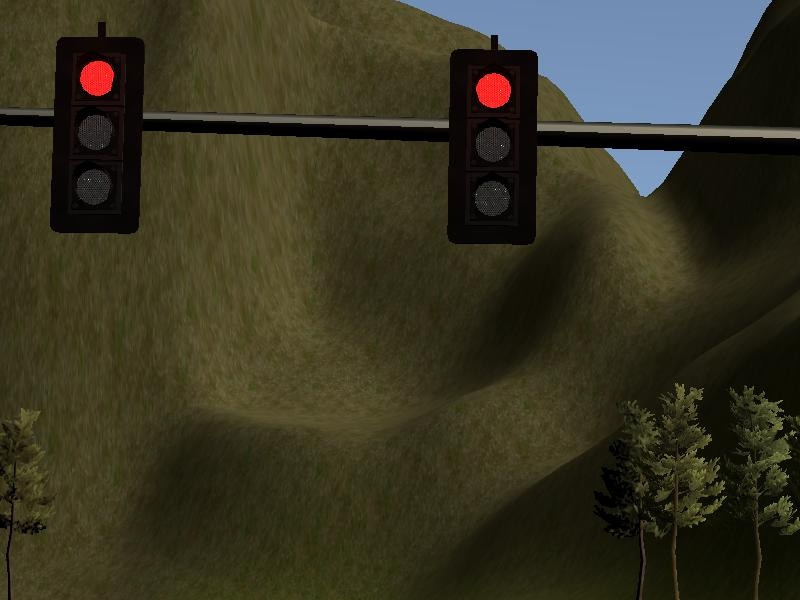RED: (49, 37, 141, 231), (447, 50, 539, 244)
